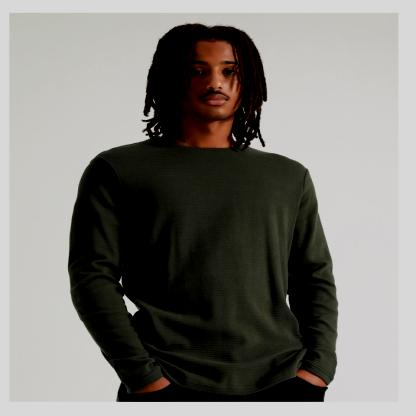dress: (66, 129, 345, 395)
